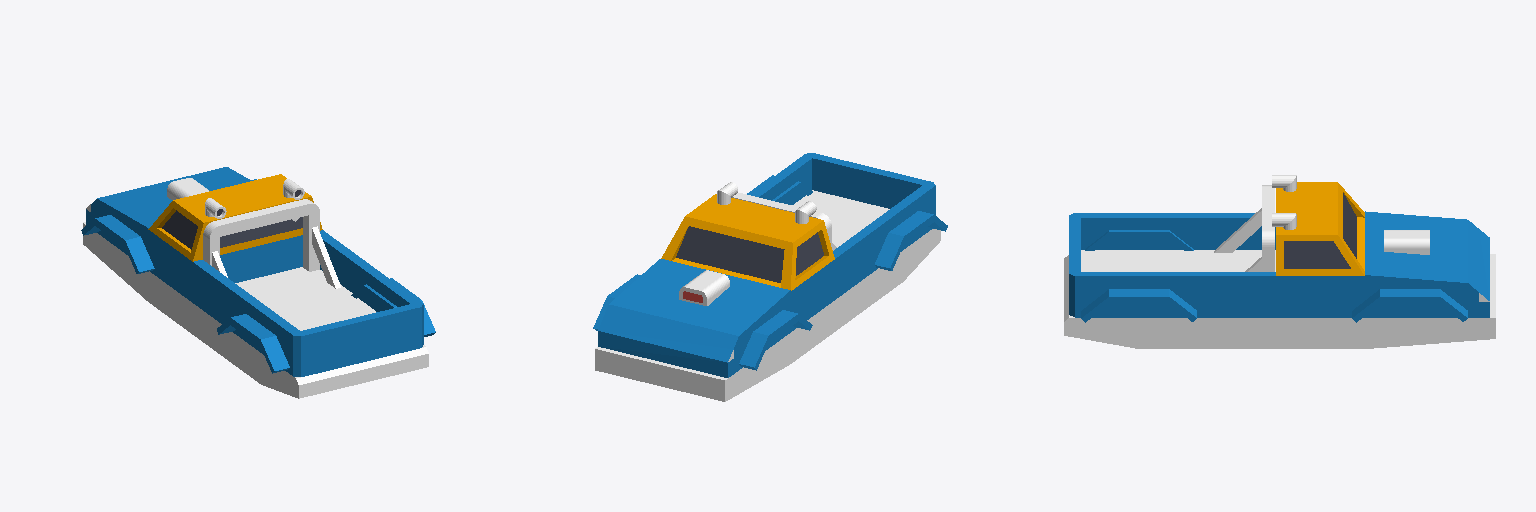
The model's file is Car01.obj.
3 views of the same model, side by side, from view 1: azimuth 30°, elevation 25°; view 2: azimuth 150°, elevation 25°; view 3: azimuth 270°, elevation 25° (orthographic).
Visible parts, largest first — view 1: Car01; view 2: Car01; view 3: Car01.
Boxes of the visible parts, box(x1,y1,x2,y2) form: Car01: box(81, 167, 435, 398); Car01: box(593, 153, 947, 401); Car01: box(1064, 175, 1495, 348).
Size of the model in its own units: 1.24 by 0.9006 by 2.87.